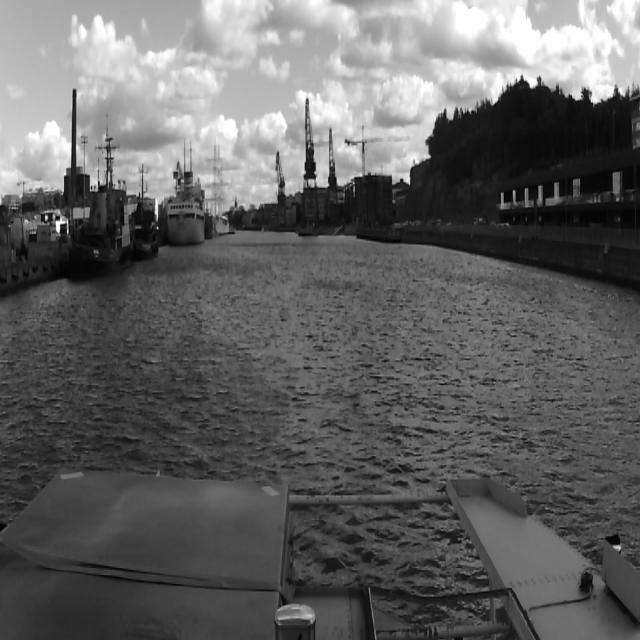ship: (76, 116, 132, 264), (166, 170, 211, 243), (128, 198, 160, 255), (212, 144, 228, 236)
